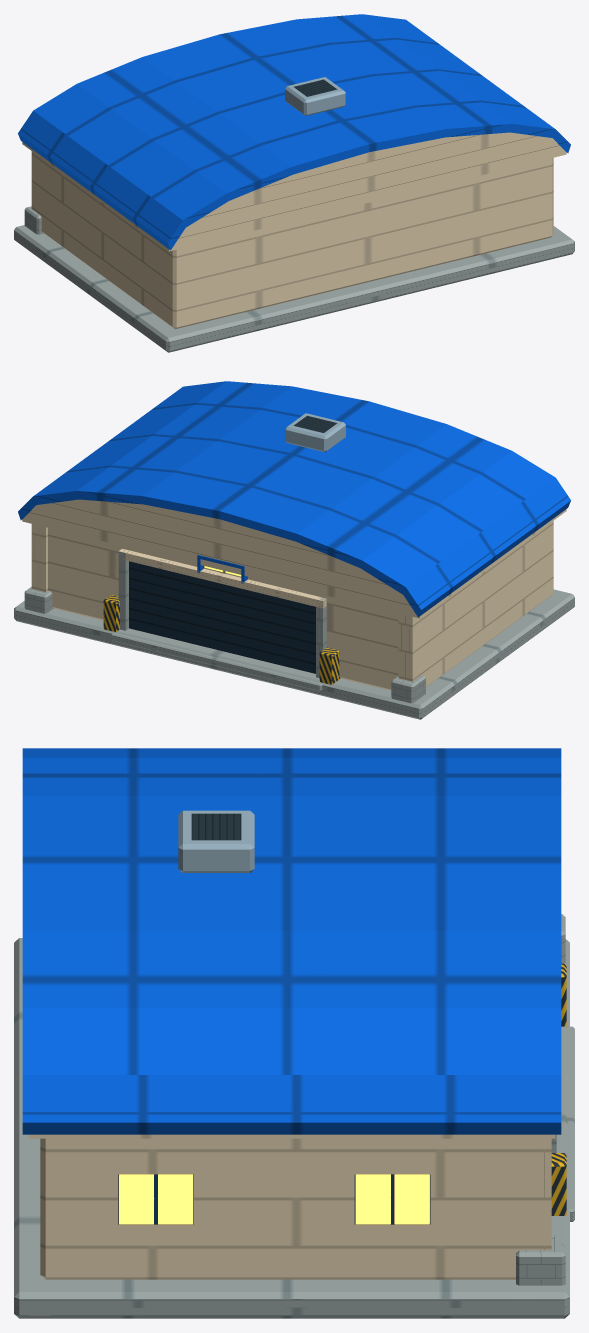
File: bld-harbor-warehouse-blue-3x2.glb
3 renders of one model, top to bottom at view 1: azimuth 30°, elevation 25°; view 2: azimuth 150°, elevation 25°; view 3: azimuth 270°, elevation 25°, orthographic. The views are drawn at different scales.
Visible parts, largest first — view 1: bld-harbor-warehouse-blue-3x2; view 2: bld-harbor-warehouse-blue-3x2; view 3: bld-harbor-warehouse-blue-3x2.
Part boxes in pixels (x1,y1,x2,y2): bld-harbor-warehouse-blue-3x2: [14, 14, 574, 352]; bld-harbor-warehouse-blue-3x2: [14, 381, 574, 719]; bld-harbor-warehouse-blue-3x2: [14, 748, 574, 1318].
Bounding box in the file's own units: 2.9 × 1.19 × 1.92.
1 material, 1 textured.
